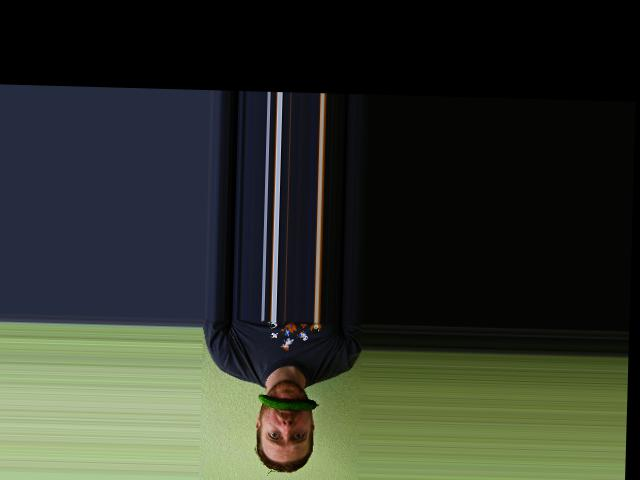cucumber: (257, 393, 319, 410)
